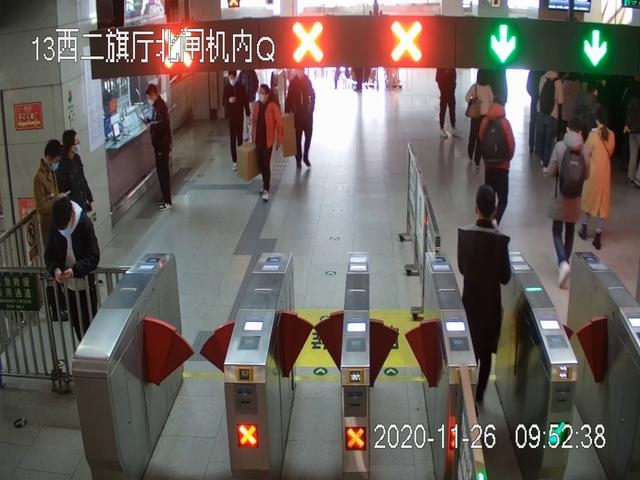person: (458, 185, 512, 410), (45, 199, 99, 367), (543, 119, 590, 291), (479, 94, 516, 230), (584, 119, 613, 249), (144, 83, 174, 208), (252, 84, 282, 203), (284, 67, 315, 169), (534, 69, 563, 174), (464, 72, 494, 168), (224, 71, 251, 170), (435, 66, 460, 138)
